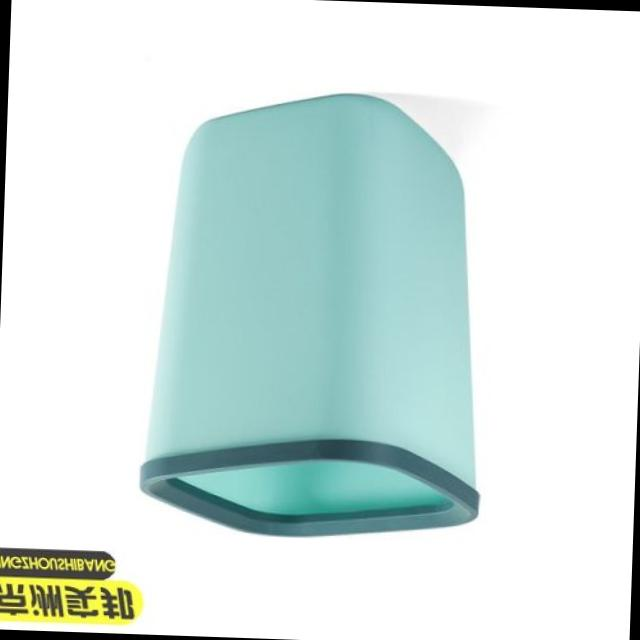dustbin: (134, 84, 499, 552)
